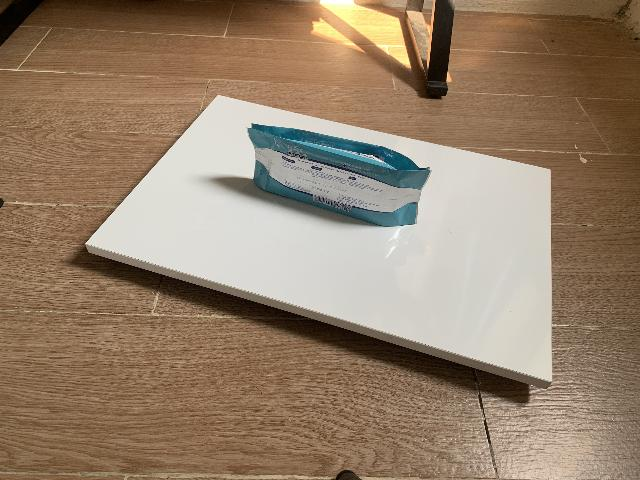Let-green_alcohol_wipes: (246, 123, 431, 227)
